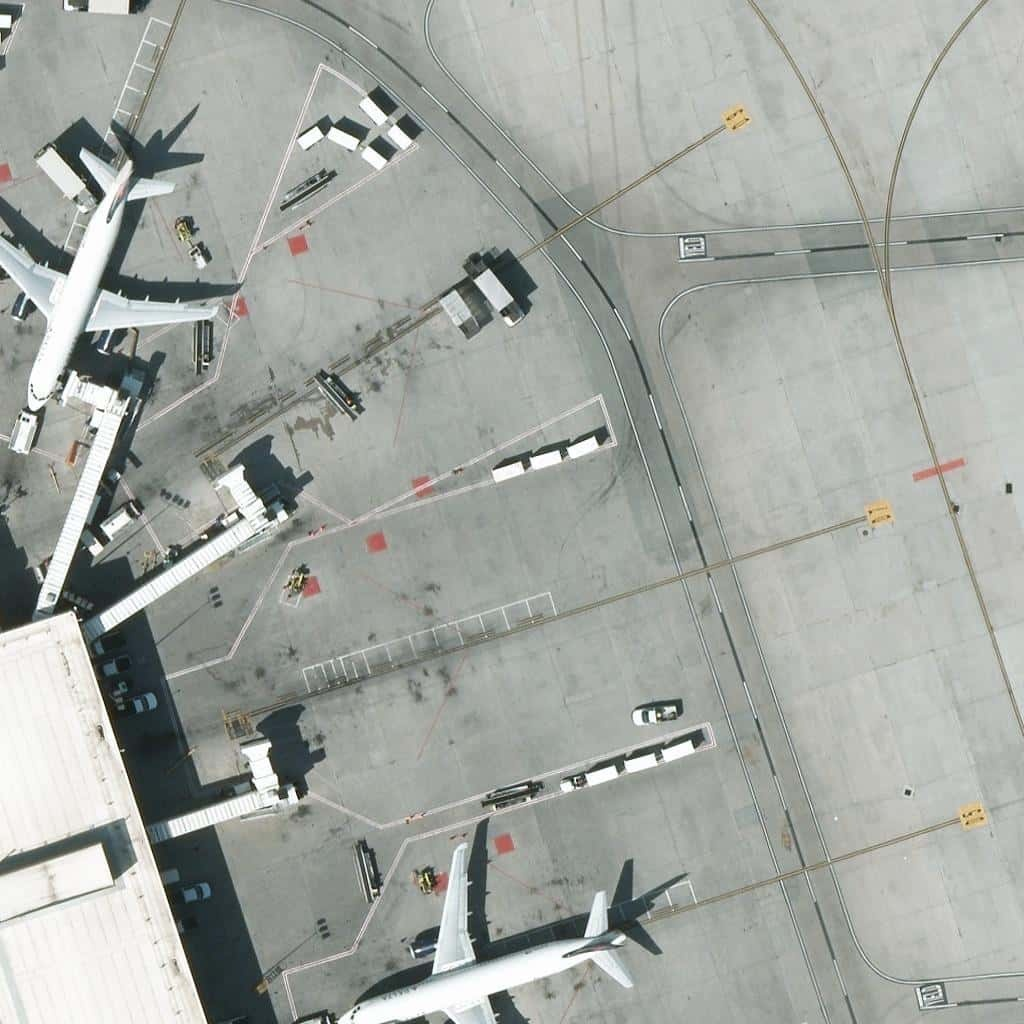plane: (2, 143, 223, 416), (331, 833, 632, 1023)
